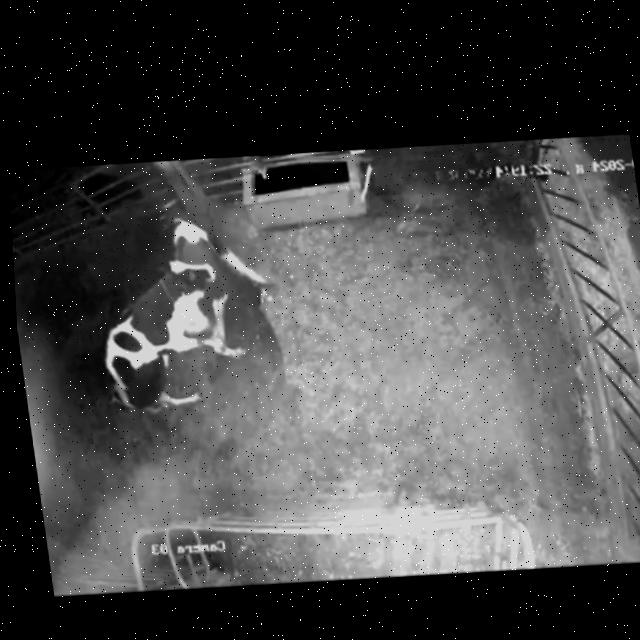ride: (81, 253, 240, 435)
stand: (150, 194, 288, 384)
